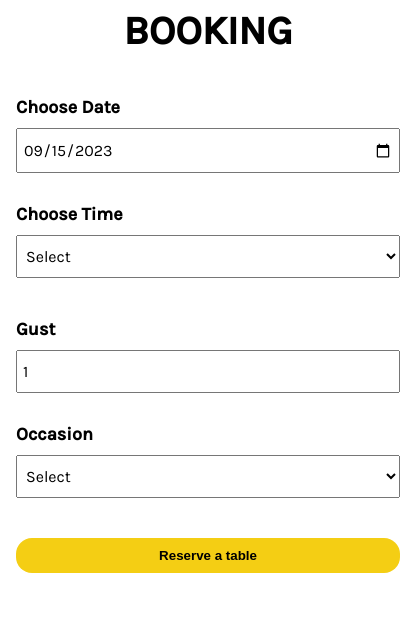
Test: BookingForm › should render time input field
Note: should render valid times
Select "Birthday" in the dropdown labelled "Occasion": point(208, 476) [16,455,400,498]
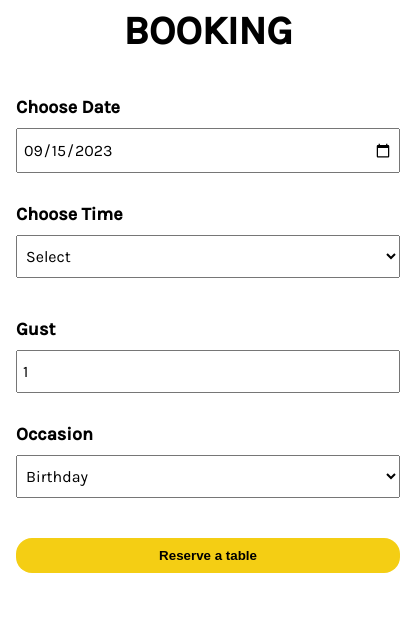
Note: should render error message  when invalid time entered
Select "Select" in the dropdown labelled "Occasion": point(208, 476) [16,455,400,498]
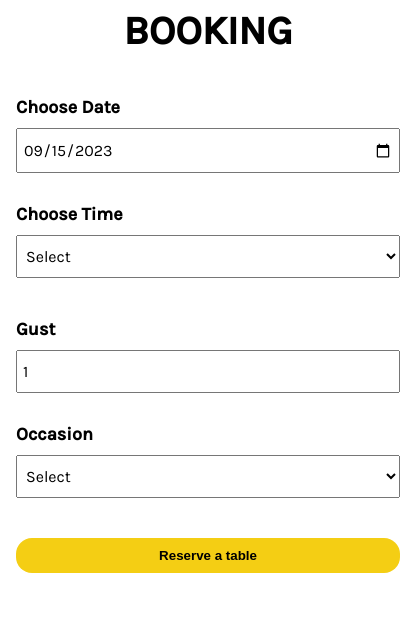
Click the button "Reserve a table": point(208, 556) [16,538,400,573]
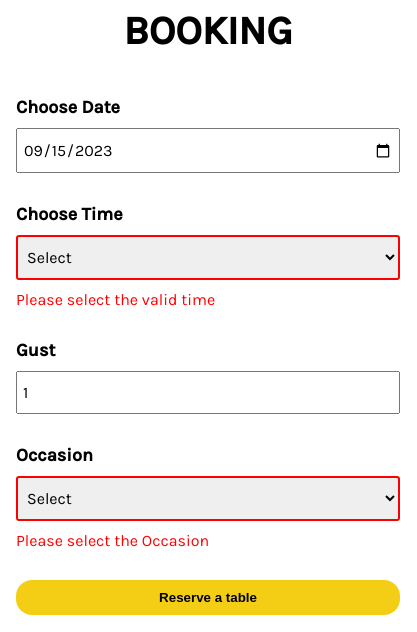
Check: the text "Please select the Occasion" is shown, box [16,531,209,550]
